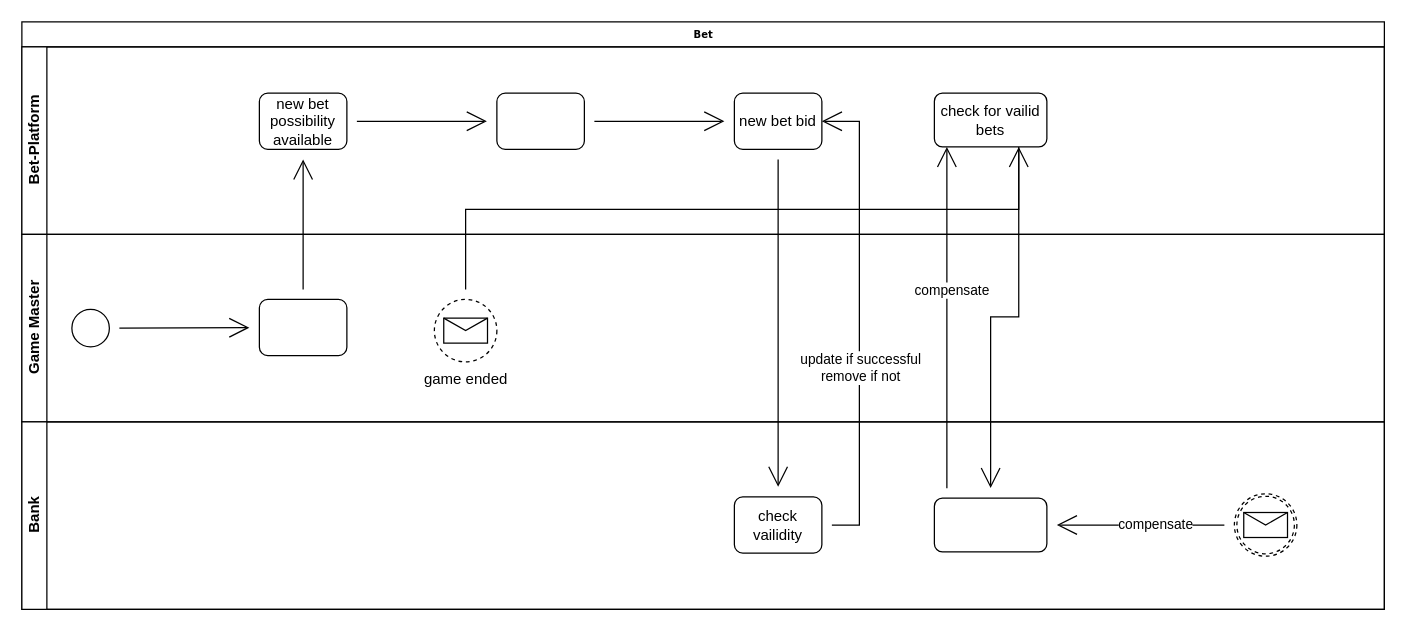
Image size: 1406x631. Some labels were removed from this diagram. The shapes that lost their labels are listed below. From the top down, each one's centre as x and y in pixels, then its label:
point 540,120: new bet contract
point 302,327: create new game
point 990,524: payments
point 1265,524: ffraud detected
